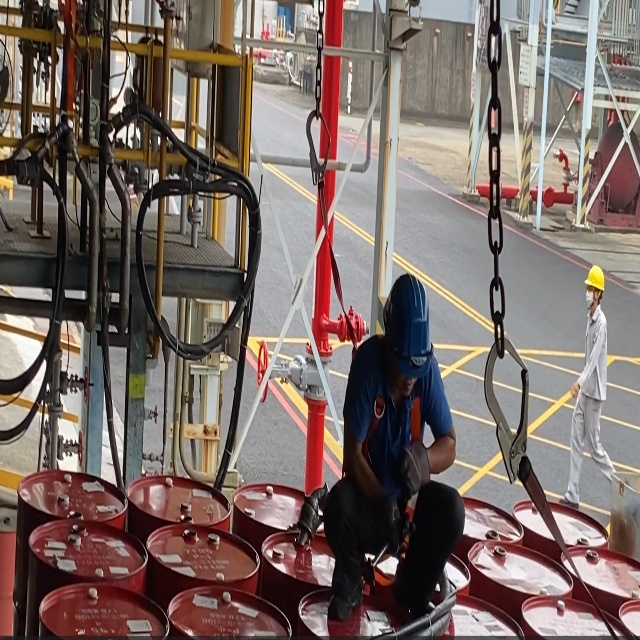Arnes_seguridad: (350, 330, 424, 564)
